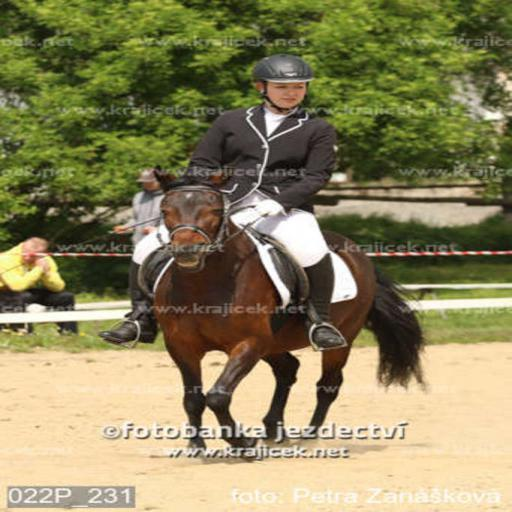horse: (144, 160, 434, 460)
